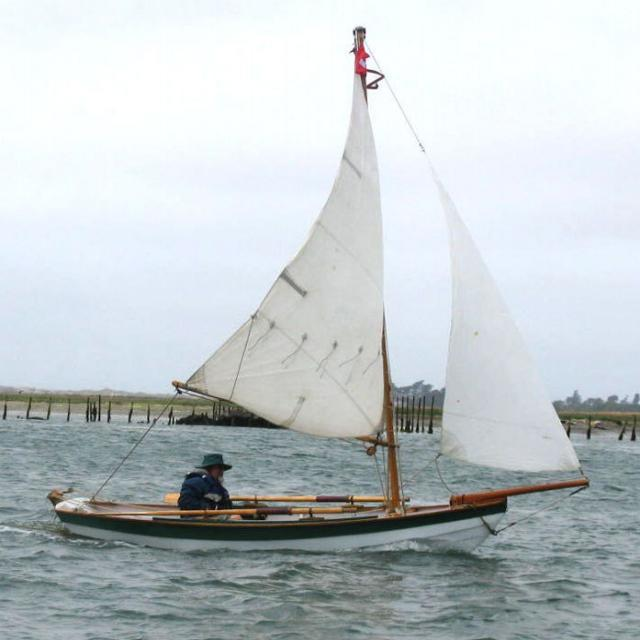Ship: (59, 34, 599, 563)
